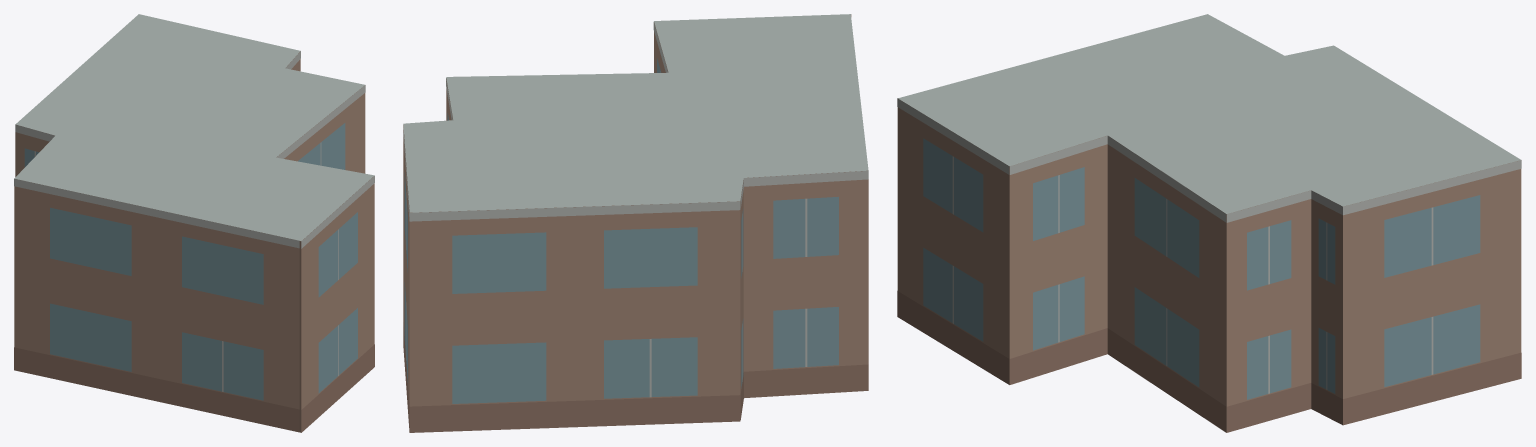
The model's file is survey-upis-32510089.glb.
3 renders of one model, left to right at view 1: azimuth 30°, elevation 25°; view 2: azimuth 150°, elevation 25°; view 3: azimuth 270°, elevation 25°, orthographic. The views are drawn at different scales.
Visible parts, largest first — view 1: survey-upis-32510089.tmp; view 2: survey-upis-32510089.tmp; view 3: survey-upis-32510089.tmp.
Boxes of the visible parts, bbox=[...] form: survey-upis-32510089.tmp: bbox=[14, 14, 374, 432]; survey-upis-32510089.tmp: bbox=[403, 14, 868, 432]; survey-upis-32510089.tmp: bbox=[897, 14, 1521, 432].
Size of the model in its own units: 11.99 by 6.1 by 15.79.
